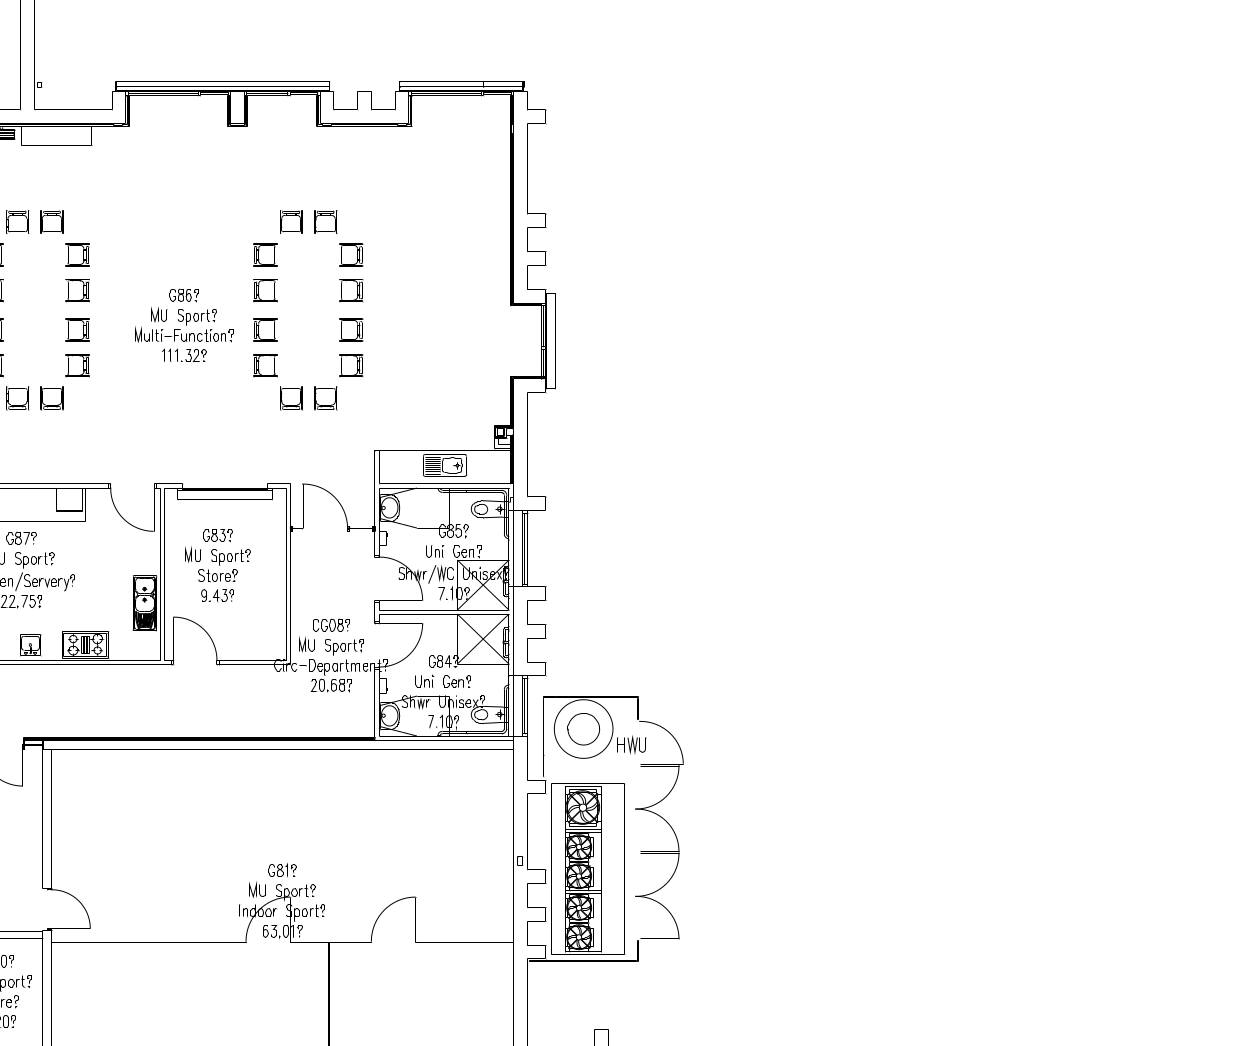door: (364, 891, 425, 957), (48, 867, 108, 933), (300, 479, 361, 545), (170, 608, 231, 674), (108, 475, 156, 537), (381, 550, 428, 608), (377, 615, 424, 673)
